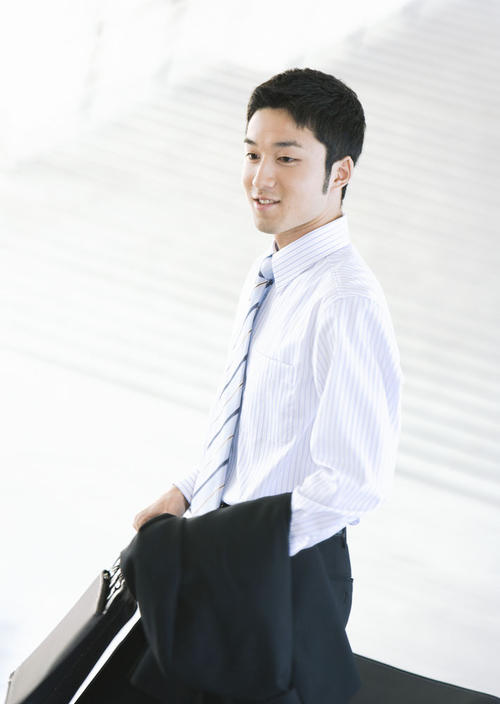no_mask: (246, 64, 369, 238)
